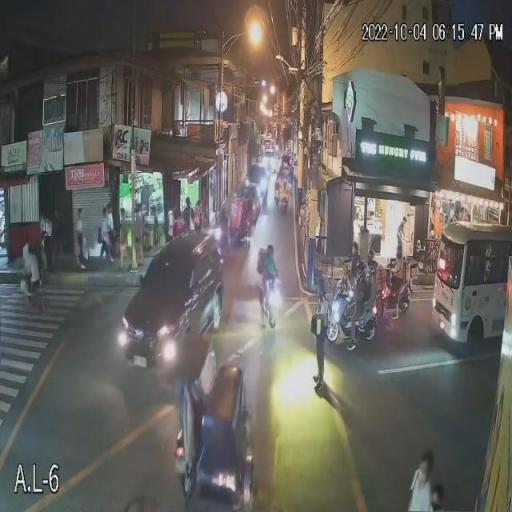helmet: (355, 261, 367, 279), (265, 246, 275, 260)
motorcycle: (324, 269, 378, 346), (372, 268, 413, 325), (257, 270, 282, 328)
rider: (342, 253, 370, 335), (256, 244, 279, 295), (372, 252, 395, 297)
